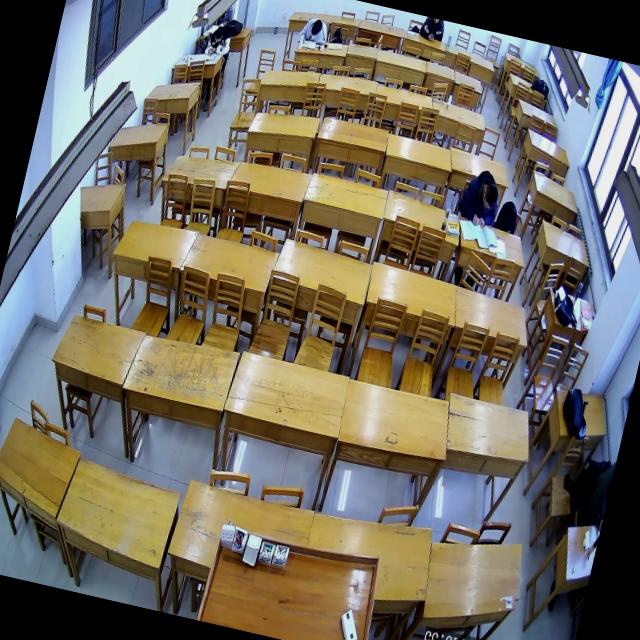bow: (203, 22, 234, 60), (296, 14, 330, 48)
down: (480, 182, 500, 212), (308, 17, 324, 38), (212, 24, 225, 44)
sit: (454, 166, 506, 228)
